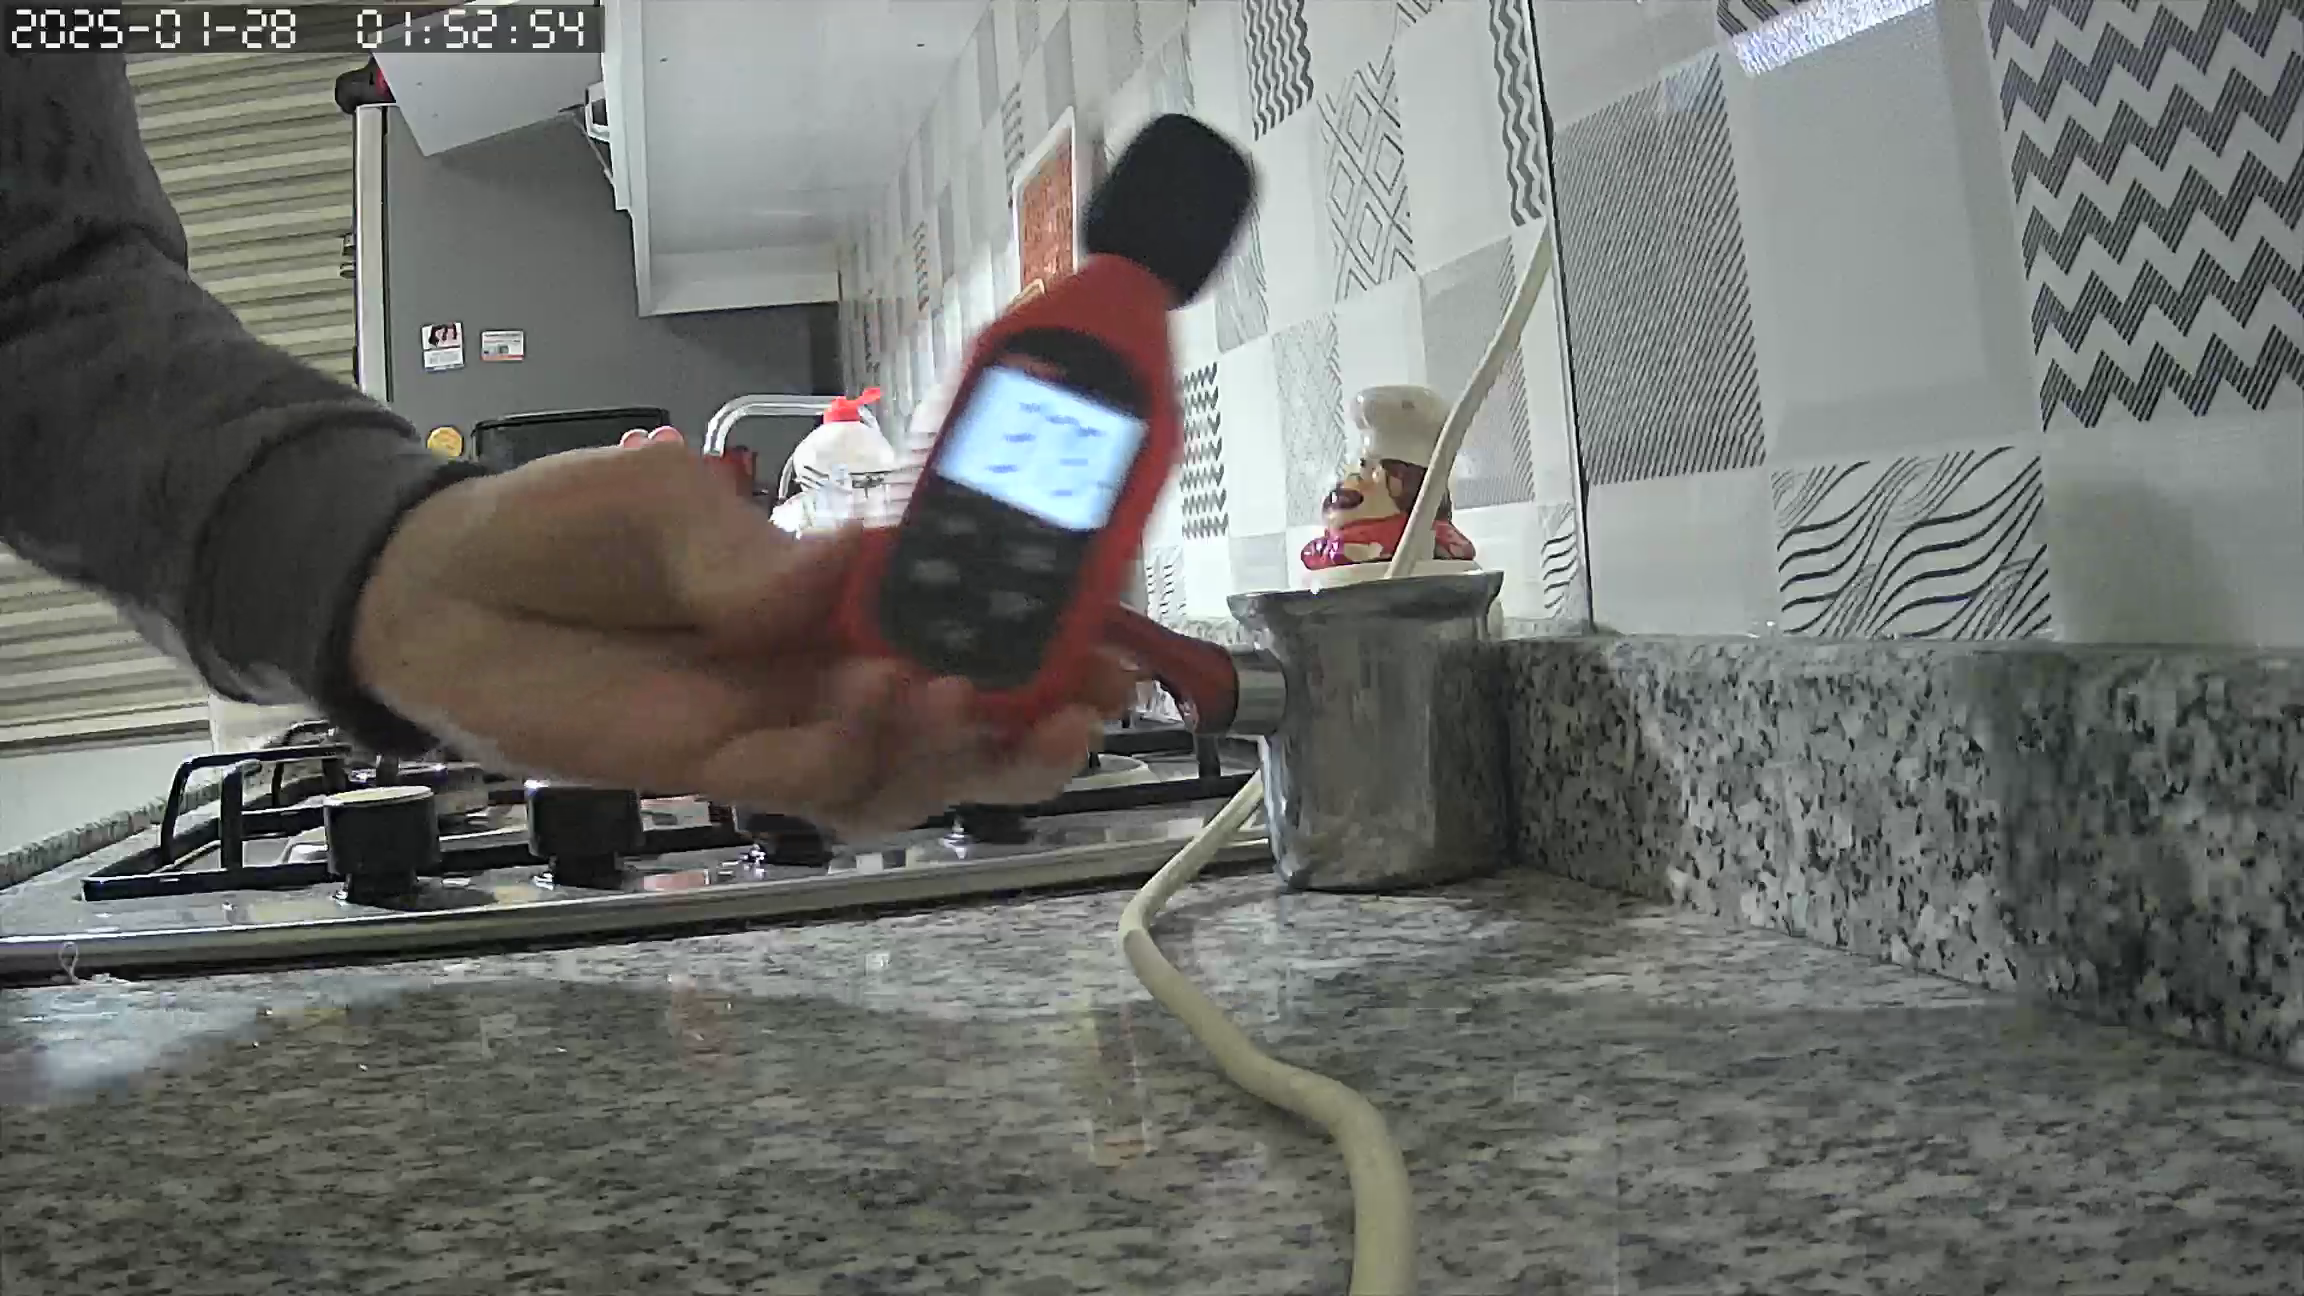screen: (937, 362, 1146, 533)
